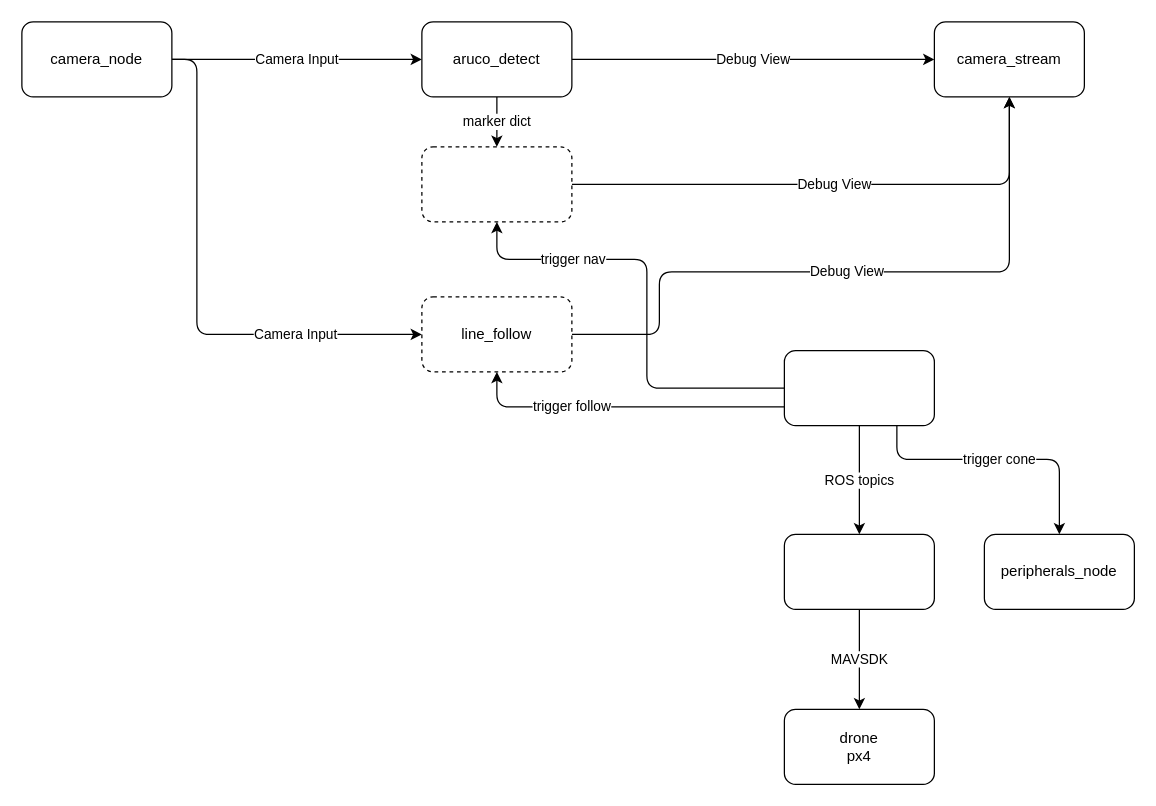
This 1156x806 diagram has some shape labels left out. The box of each missing label's shape, as (x1, y1, x2, y2) in pixels:
fly_main: (783, 349, 934, 426)
nav_aruco: (421, 146, 572, 222)
px4_to_ros2: (783, 533, 934, 609)
